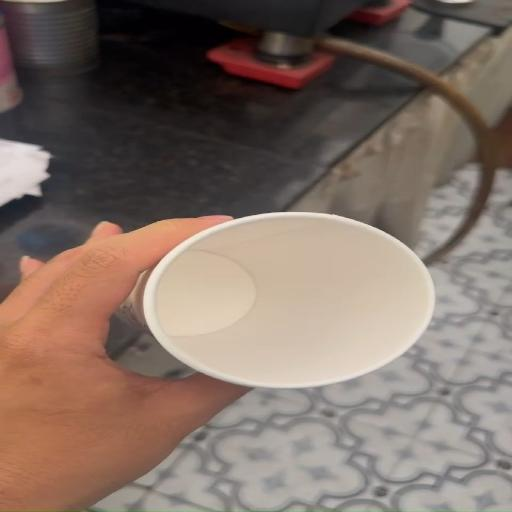Ly_giay: (119, 212, 434, 388)
